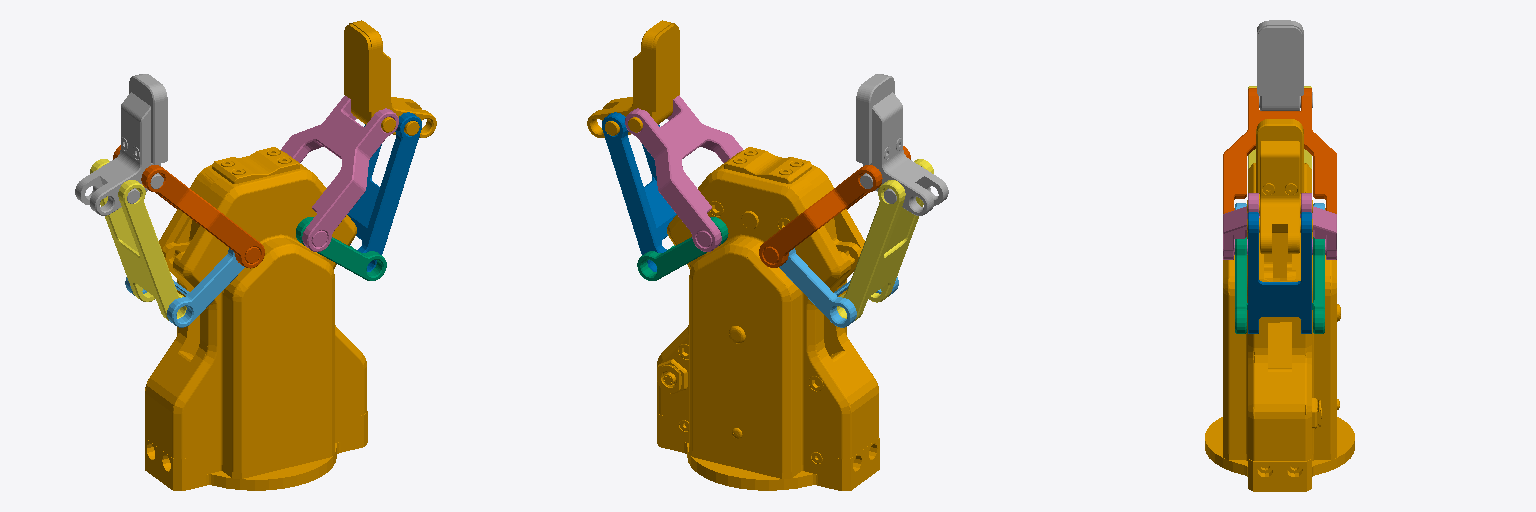
URDF robot description (ag_95):
<?xml version="1.0" encoding="utf-8"?>
<robot name="ag_95" xmlns:xacro="http://ros.org/wiki/xacro">

  <!-- <link name="ee_link"/>

  <joint name="gripper_base_joint" type="fixed">
    <parent link="ee_link"/>
    <child link="gripper_base_link"/>
    <origin rpy="1.57075 0 1.57075" xyz="0 0 0"/>
  </joint>
  <joint name="gripper_base_joint" type="fixed">
    <parent link="wrist3_link"/>
    <child link="gripper_base_link"/>
    <origin rpy="1.57075 0 1.57075" xyz="0 0 0"/>
  </joint> -->
  <link name="gripper_base_link">
    <visual>
      <geometry>
        <mesh filename="package://dcp_description/meshes/gripper/ag95/base_link.STL"/>
      </geometry>
    </visual>
    <collision>
      <geometry>
        <mesh filename="package://dcp_description/meshes/gripper/ag95/base_link.STL"/>
      </geometry>
    </collision>
    <inertial>
      <mass value="0.83416" />
      <origin xyz="0.0 0.0 0.0" />
      <inertia ixx = "0.0013016" ixy = "-6.9374e-07" ixz = "5.9848e-07"
               iyx = "0.000000" iyy = "0.00049972" iyz = "2.0244E-07"
               izx = "0.000000" izy = "0.000000" izz = "0.001498" />
    </inertial>
  </link>
  <joint name="gripper_finger1_joint" type="revolute">
    <parent link="gripper_base_link"/>
    <child link="gripper_finger1_knuckle_link"/>
    <axis xyz="0 -1 0"/>
    <origin rpy="0.0 0.0 3.14" xyz="-0.016 0 0.10586"/>
    <limit lower="0.0" upper="0.6524" velocity="2.0" effort="1000"/>
  </joint>
  <joint name="gripper_finger2_joint" type="revolute">
    <parent link="gripper_base_link"/>
    <child link="gripper_finger2_knuckle_link"/>
    <axis xyz="0 -1 0"/>
    <origin rpy="0.0 0.0 0.0" xyz="0.016  0 0.10586 "/>
    <limit lower="-3.14" upper="3.14" velocity="100.0" effort="1000"/>
    <mimic joint="gripper_finger1_joint"/>
  </joint>
  <link name="gripper_finger1_knuckle_link">
    <visual>
      <geometry>
          <mesh filename="package://dcp_description/meshes/gripper/ag95/crank_Link.STL"/>
      </geometry>
    </visual>
    <collision>
      <geometry>
          <mesh filename="package://dcp_description/meshes/gripper/ag95/crank_Link.STL"/>
      </geometry>
    </collision>
    <inertial>
      <mass value="0.011111" />
      <origin xyz="0.0 0.0 0.0" />
      <inertia ixx = "3.88172e-06" ixy = "-2.29456e-13" ixz = "8.33e-07"
               iyx = "0.000000" iyy = "1.92174e-06" iyz = "2.04435e-13"
               izx = "0.000000" izy = "0.000000" izz = "4.32374e-06" />
    </inertial>
  </link>
  <link name="gripper_finger2_knuckle_link">
    <visual>
      <geometry>
          <mesh filename="package://dcp_description/meshes/gripper/ag95/crank_Link.STL"/>
      </geometry>
    </visual>
    <collision>
      <geometry>
          <mesh filename="package://dcp_description/meshes/gripper/ag95/crank_Link.STL"/>
      </geometry>
    </collision>
    <inertial>
      <mass value="0.011111" />
      <origin xyz="0.0 0.0 0.0" />
      <inertia ixx = "3.88172e-06" ixy = "-2.29456e-13" ixz = "8.33e-07"
               iyx = "0.000000" iyy = "1.92174e-06" iyz = "2.04435e-13"
               izx = "0.000000" izy = "0.000000" izz = "4.32374e-06" />
    </inertial>
  </link>
  <joint name="gripper_finger1_finger_joint" type="continuous">
    <parent link="gripper_finger1_knuckle_link"/>
    <child link="gripper_finger1_finger_link"/>
    <axis xyz="0 -1 0"/>
    <origin xyz="0.0292080077784 0.0 -0.0227132622407" rpy="0 0 0" />
    <limit lower="-3.14" upper="3.14" velocity="100.0" effort="0.1"/>
    <mimic joint="gripper_finger1_joint" multiplier="0.4563942" offset="0"/>
  </joint>
  <joint name="gripper_finger2_finger_joint" type="continuous">
    <parent link="gripper_finger2_knuckle_link"/>
    <child link="gripper_finger2_finger_link"/>
    <axis xyz="0 -1 0"/>
    <origin xyz="0.0292080077784 0.0 -0.0227132622407" rpy="0 0 0" />
    <limit lower="-3.14" upper="3.14" velocity="100.0" effort="0.1"/>
    <mimic joint="gripper_finger1_joint" multiplier="0.4563942" offset="0"/>
  </joint>
  <link name="gripper_finger1_finger_link">
    <visual>
      <geometry>
          <mesh filename="package://dcp_description/meshes/gripper/ag95/rod_Link.STL"/>
      </geometry>
    </visual>
    <collision>
      <geometry>
          <mesh filename="package://dcp_description/meshes/gripper/ag95/rod_Link.STL"/>
      </geometry>
    </collision>
    <inertial>
      <mass value="0.0222871" />
      <origin xyz="0.0 0.0 0.0" />
      <inertia ixx = "8.72836e-06" ixy = "7.0843e-15" ixz = "-2.18833e-06"
               iyx = "-0.000002" iyy = "7.26157e-06" iyz = "7.6579e-15"
               izx = "0.000000" izy = "0.000000" izz = "3.3425e-06" />
    </inertial>
  </link>
  <link name="gripper_finger2_finger_link">
    <visual>
        <geometry>
            <mesh filename="package://dcp_description/meshes/gripper/ag95/rod_Link.STL"/>
        </geometry>
    </visual>
    <collision>
      <geometry>
          <mesh filename="package://dcp_description/meshes/gripper/ag95/rod_Link.STL"/>
      </geometry>
    </collision>
    <inertial>
      <mass value="0.0222871" />
      <origin xyz="0.0 0.0 0.0" />
      <inertia ixx = "8.72836e-06" ixy = "7.0843e-15" ixz = "-2.18833e-06"
               iyx = "-0.000002" iyy = "7.26157e-06" iyz = "7.6579e-15"
               izx = "0.000000" izy = "0.000000" izz = "3.3425e-06" />
    </inertial>
  </link>
  <joint name="gripper_finger1_inner_knuckle_joint" type="continuous">
    <parent link="gripper_base_link"/>
    <child link="gripper_finger1_inner_knuckle_link"/>
    <axis xyz="0 -1 0"/>
    <origin rpy="0.0 0.0 3.14" xyz="-0.016 0 0.10586"/>
    <limit lower="-3.14" upper="3.14" velocity="100.0" effort="0.1"/>
    <mimic joint="gripper_finger1_joint" multiplier="1.49462955"  offset="0"/>
  </joint>
  <joint name="gripper_finger2_inner_knuckle_joint" type="continuous">
    <parent link="gripper_base_link"/>
    <child link="gripper_finger2_inner_knuckle_link"/>
    <axis xyz="0 -1 0"/>
    <origin rpy="0.0 0.0 0.0" xyz="0.016 0 0.10586"/>
    <limit lower="-3.14" upper="3.14" velocity="100.0" effort="0.1"/>
    <mimic joint="gripper_finger1_joint" multiplier="1.49462955"  offset="0"/>
  </joint>
  <link name="gripper_finger1_inner_knuckle_link">
    <visual>
      <geometry>
          <mesh filename="package://dcp_description/meshes/gripper/ag95/proximal_phalanx_Link.STL"/>
      </geometry>
    </visual>
    <collision>
      <geometry>
          <mesh filename="package://dcp_description/meshes/gripper/ag95/proximal_phalanx_Link.STL"/>
      </geometry>
    </collision>
    <inertial>
      <mass value="0.0318004" />
      <origin xyz="0.0 0.0 0.0" />
      <inertia ixx = "1.39848e-05" ixy = "-9.54763e-15" ixz = "-5.01422e-06"
               iyx = "0.000000" iyy = "1.04943e-05" iyz = "8.94585e-16"
               izx = "0.000000" izy = "0.000000" izz = "1.36183e-05" />
    </inertial>
  </link>
  <link name="gripper_finger2_inner_knuckle_link">
    <visual>
      <geometry>
          <mesh filename="package://dcp_description/meshes/gripper/ag95/proximal_phalanx_Link.STL"/>
      </geometry>
    </visual>
    <collision>
      <geometry>
          <mesh filename="package://dcp_description/meshes/gripper/ag95/proximal_phalanx_Link.STL"/>
      </geometry>
    </collision>
    <inertial>
      <mass value="0.0318004" />
      <origin xyz="0.0 0.0 0.0" />
      <inertia ixx = "1.39848e-05" ixy = "-9.54763e-15" ixz = "-5.01422e-06"
               iyx = "0.000000" iyy = "1.04943e-05" iyz = "8.94585e-16"
               izx = "0.000000" izy = "0.000000" izz = "1.36183e-05" />
    </inertial>
  </link>
  <joint name="gripper_finger1_finger_tip_joint" type="continuous">
    <parent link="gripper_finger1_inner_knuckle_link"/>
    <child link="gripper_finger1_finger_tip_link"/>
      <axis xyz="0 1 0"/>
      <origin xyz="0.0394969463769 0.0 0.0382752038125 " rpy="0.0 0.0 0.0"/>
      <limit lower="-3.14" upper="3.14" velocity="100.0" effort="0.1"/>
      <mimic joint="gripper_finger1_joint" multiplier="1.49462955"/>
  </joint>
  <joint name="gripper_finger2_finger_tip_joint" type="continuous">
    <parent link="gripper_finger2_inner_knuckle_link"/>
    <child link="gripper_finger2_finger_tip_link"/>
    <axis xyz="0 1 0"/>
    <origin rpy="0.0 0.0 0.0" xyz="0.0394969463769  0.0 0.0382752038125  "/>
    <limit lower="-3.14" upper="3.14" velocity="100.0" effort="0.1"/>
    <mimic joint="gripper_finger1_joint" multiplier="1.49462955"/>
  </joint>
  <link name="gripper_finger1_finger_tip_link">
    <visual>
      <geometry>
          <mesh filename="package://dcp_description/meshes/gripper/ag95/distal_phalanx_Link.STL"/>
      </geometry>
    </visual>
    <collision>
      <geometry>
          <mesh filename="package://dcp_description/meshes/gripper/ag95/distal_phalanx_Link.STL"/>
      </geometry>
    </collision>
    <inertial>
      <mass value="0.0124305" />
      <origin xyz="0.0 0.0 0.0" />
      <inertia ixx = "2.84217e-06" ixy = "-2.48048e-15" ixz = "8.24539e-07"
               iyx = "0.000000" iyy = "3.03961e-06" iyz = "2.16427e-13"
               izx = "0.000000" izy = "0.000000" izz = "1.11815e-06" />
    </inertial>
  </link> 
  <link name="gripper_finger2_finger_tip_link">
    <visual>
      <geometry>
          <mesh filename="package://dcp_description/meshes/gripper/ag95/distal_phalanx_Link.STL"/>
      </geometry>
    </visual>
    <collision>
      <geometry>
          <mesh filename="package://dcp_description/meshes/gripper/ag95/distal_phalanx_Link.STL"/>
      </geometry>
    </collision>
    <inertial>
      <mass value="0.0124305" />
      <origin xyz="0.0 0.0 0.0" />
      <inertia ixx = "2.84217e-06" ixy = "-2.48048e-15" ixz = "8.24539e-07"
               iyx = "0.000000" iyy = "3.03961e-06" iyz = "2.16427e-13"
               izx = "0.000000" izy = "0.000000" izz = "1.11815e-06" />
    </inertial>
  </link> 
</robot>

--- What the picture shows (computed from the rendered views, not written in the file) ---
Views: 3 orthographic renders of the robot side by side, from view 1: azimuth 30°, elevation 25°; view 2: azimuth 150°, elevation 25°; view 3: azimuth 270°, elevation 25°.
Robot: ag_95 — 9 links, 8 joints (2 revolute, 6 continuous); root link gripper_base_link; default pose: all joints at 0.
Visible links, largest first — view 1: gripper_base_link, gripper_finger2_inner_knuckle_link, gripper_finger1_finger_tip_link, gripper_finger2_finger_tip_link, gripper_finger1_finger_link, gripper_finger2_finger_link, gripper_finger1_inner_knuckle_link, gripper_finger1_knuckle_link, gripper_finger2_knuckle_link; view 2: gripper_base_link, gripper_finger2_inner_knuckle_link, gripper_finger1_finger_tip_link, gripper_finger1_finger_link, gripper_finger2_finger_tip_link, gripper_finger2_finger_link, gripper_finger1_inner_knuckle_link, gripper_finger1_knuckle_link, gripper_finger2_knuckle_link; view 3: gripper_base_link, gripper_finger2_finger_tip_link, gripper_finger1_inner_knuckle_link, gripper_finger2_finger_link, gripper_finger1_finger_tip_link, gripper_finger2_inner_knuckle_link, gripper_finger2_knuckle_link.
Link boxes in pixels (left/top/right/bottom): gripper_base_link: left=145, top=147, right=367, bottom=490; gripper_finger2_inner_knuckle_link: left=281, top=96, right=398, bottom=251; gripper_finger1_finger_tip_link: left=75, top=74, right=167, bottom=215; gripper_finger2_finger_tip_link: left=344, top=20, right=436, bottom=137; gripper_finger1_finger_link: left=90, top=159, right=186, bottom=320; gripper_finger2_finger_link: left=347, top=112, right=421, bottom=271; gripper_finger1_inner_knuckle_link: left=113, top=145, right=264, bottom=268; gripper_finger1_knuckle_link: left=125, top=248, right=244, bottom=327; gripper_finger2_knuckle_link: left=296, top=217, right=386, bottom=280; gripper_base_link: left=657, top=147, right=879, bottom=490; gripper_finger2_inner_knuckle_link: left=625, top=95, right=742, bottom=251; gripper_finger1_finger_tip_link: left=856, top=74, right=948, bottom=215; gripper_finger1_finger_link: left=837, top=159, right=933, bottom=320; gripper_finger2_finger_tip_link: left=587, top=20, right=679, bottom=137; gripper_finger2_finger_link: left=602, top=112, right=676, bottom=271; gripper_finger1_inner_knuckle_link: left=759, top=146, right=910, bottom=267; gripper_finger1_knuckle_link: left=779, top=248, right=898, bottom=327; gripper_finger2_knuckle_link: left=637, top=217, right=728, bottom=280; gripper_base_link: left=1205, top=163, right=1354, bottom=491; gripper_finger2_finger_tip_link: left=1247, top=119, right=1312, bottom=253; gripper_finger1_inner_knuckle_link: left=1223, top=88, right=1336, bottom=213; gripper_finger2_finger_link: left=1248, top=212, right=1311, bottom=333; gripper_finger1_finger_tip_link: left=1257, top=20, right=1312, bottom=110; gripper_finger2_inner_knuckle_link: left=1223, top=193, right=1336, bottom=259; gripper_finger2_knuckle_link: left=1235, top=237, right=1324, bottom=333.
Size in the robot's own frame: 0.1634 by 0.067 by 0.1876 metres.
9 mesh visuals loaded from 5 distinct referenced files (5 binary STL).
